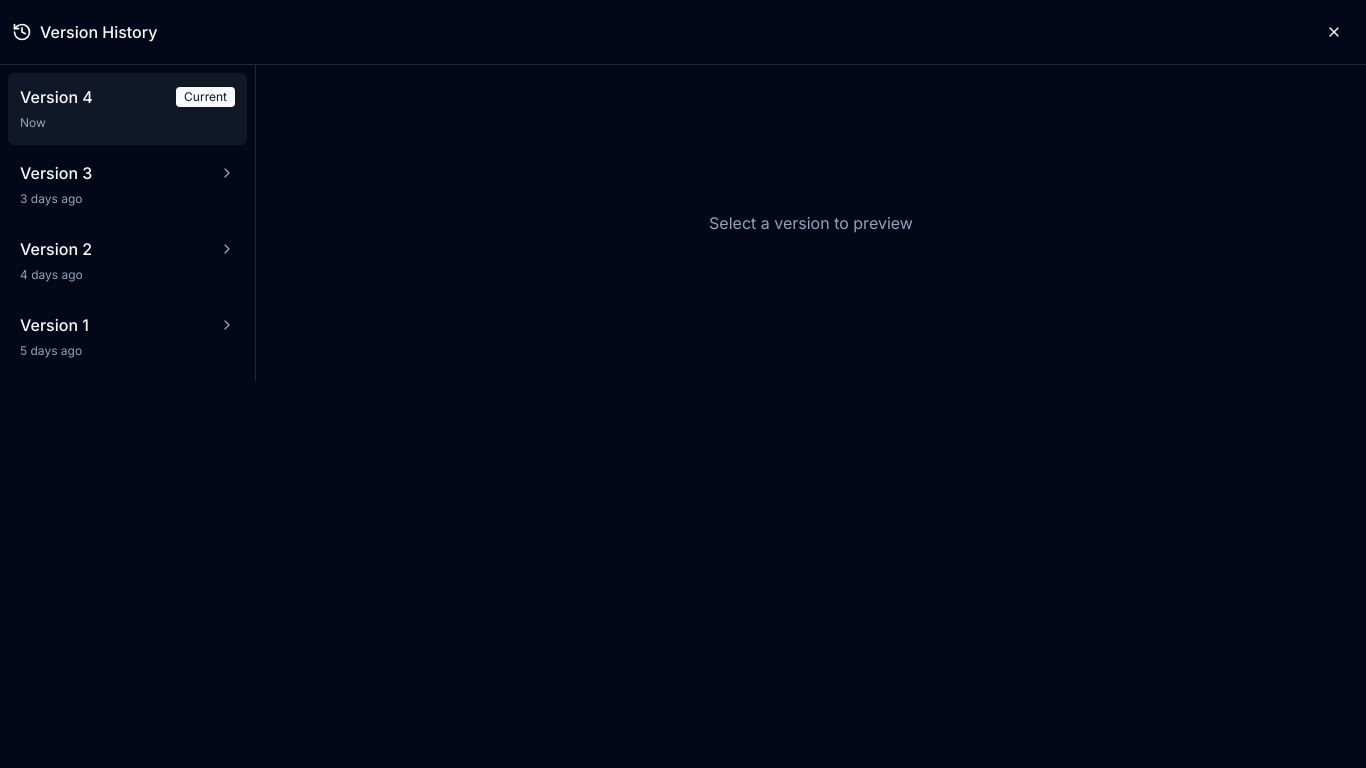
Test case: NoteVersionHistory › should allow restoring a version
Click the button "Version 3 3 days ago" at (128, 185), box [8,149,247,221]
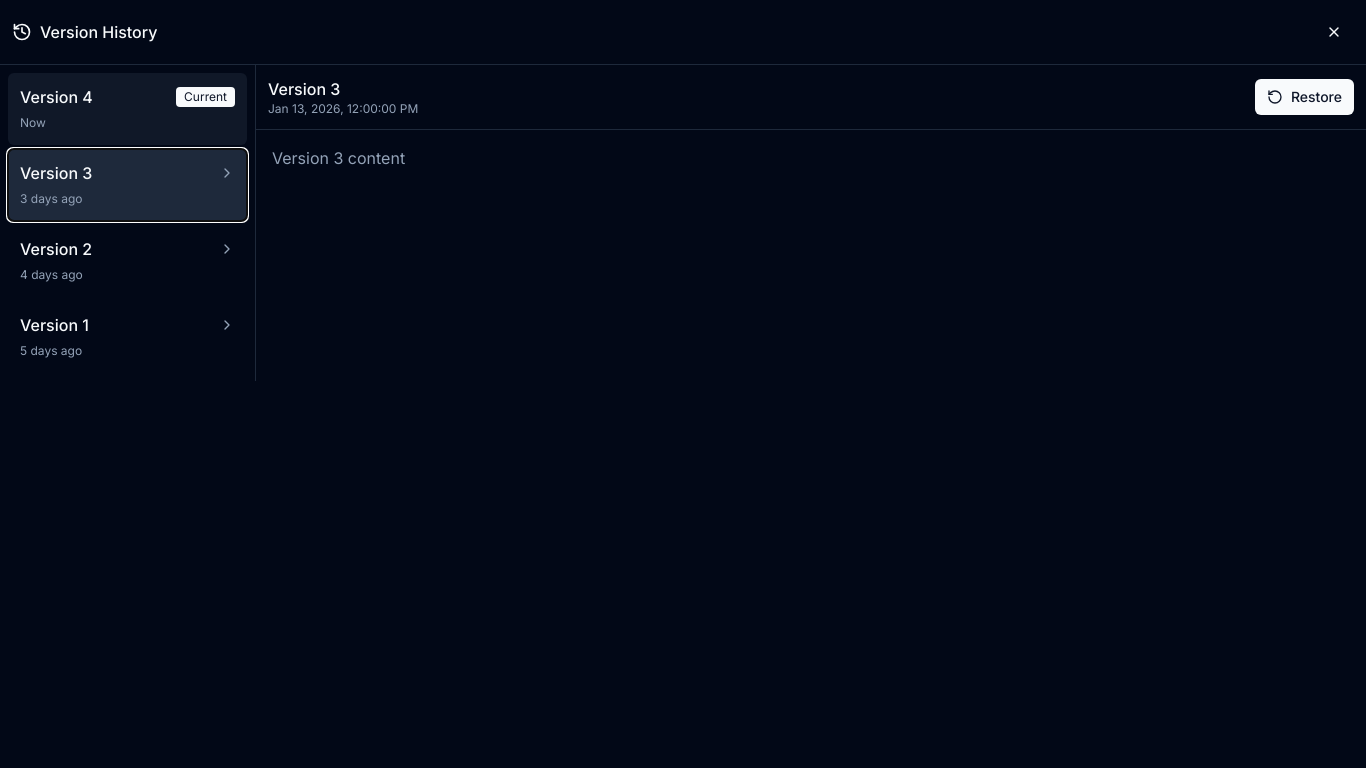
// Now find and click restore button
Click the button "Restore" at (1304, 97), box [1255,79,1354,115]
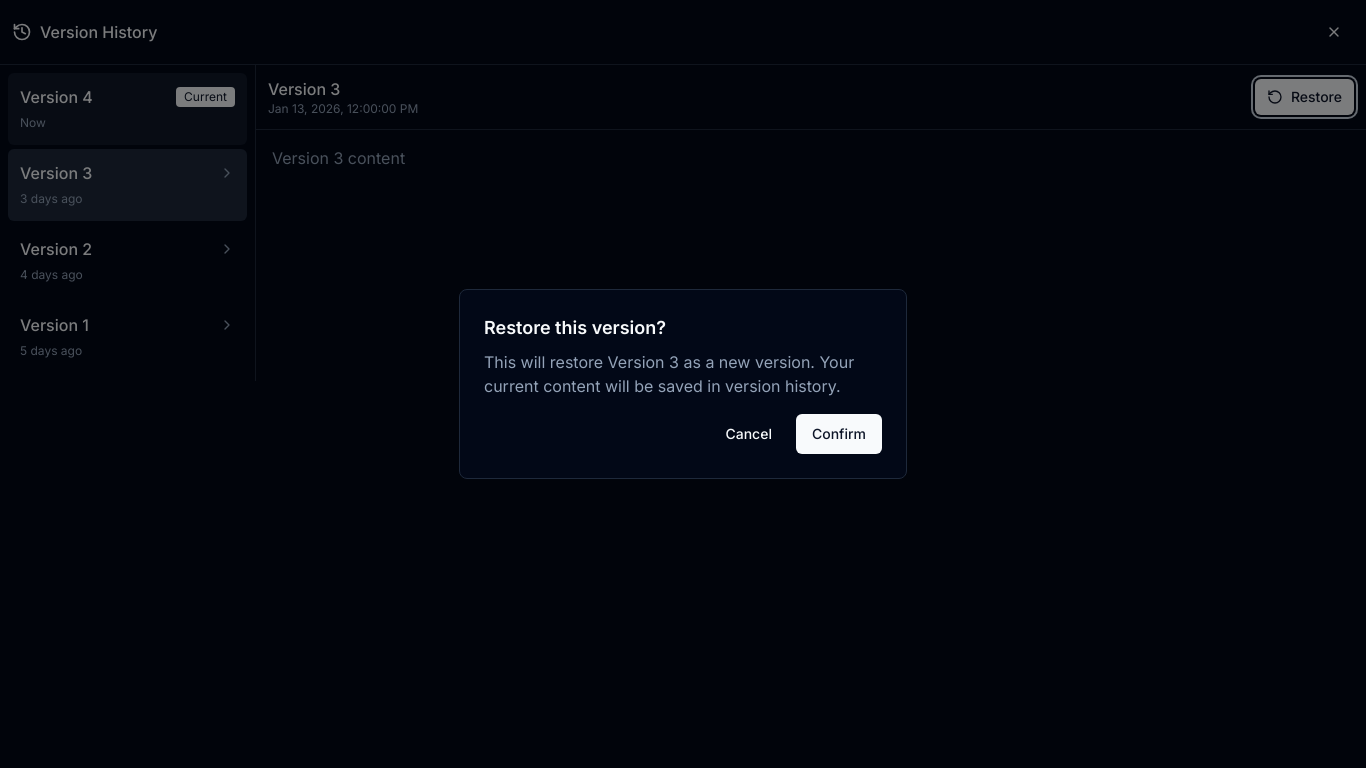
Result: the heading "Restore this version?" is shown at [484,317,666,338]
